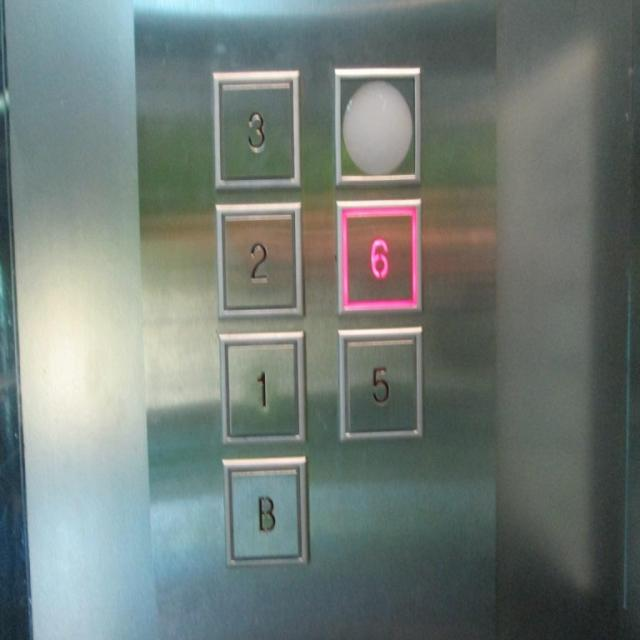1: (218, 330, 308, 445)
2: (212, 198, 306, 318)
3: (210, 68, 301, 190)
5: (336, 327, 426, 442)
6: (336, 198, 423, 318)
B: (221, 454, 310, 568)
empty: (333, 65, 420, 185)
